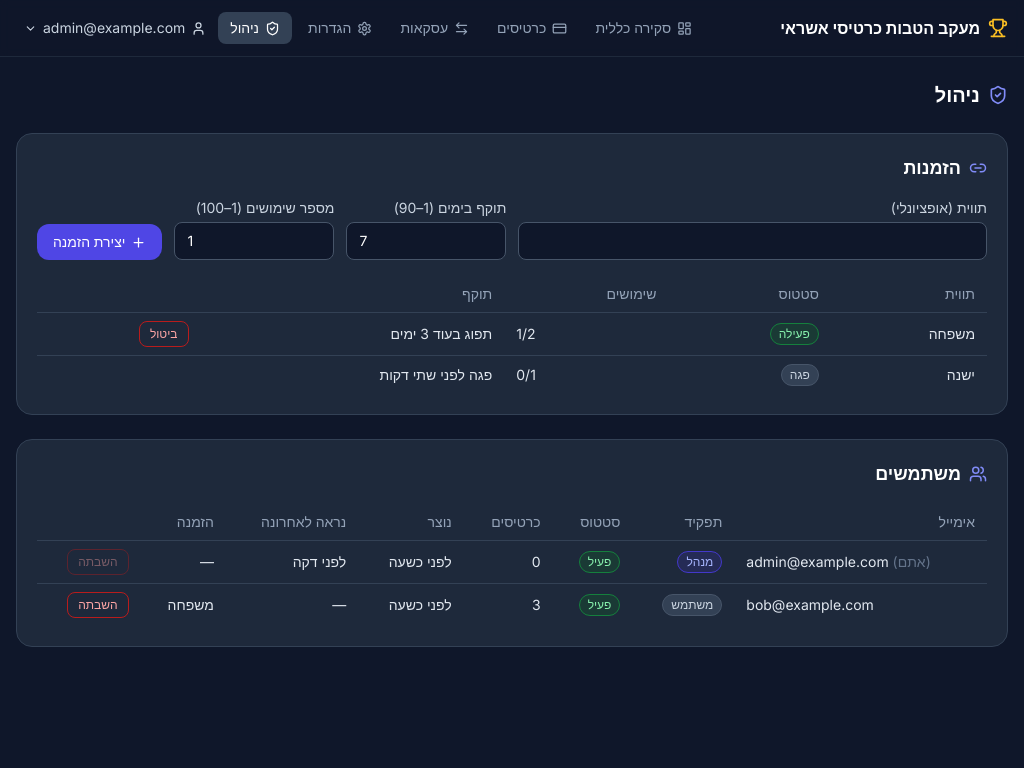
Test: admin page › shows the Hebrew 409 message inline
Click the button with aria-label "השבתת bob@example.com" at (98, 605), box [67,592,129,618]
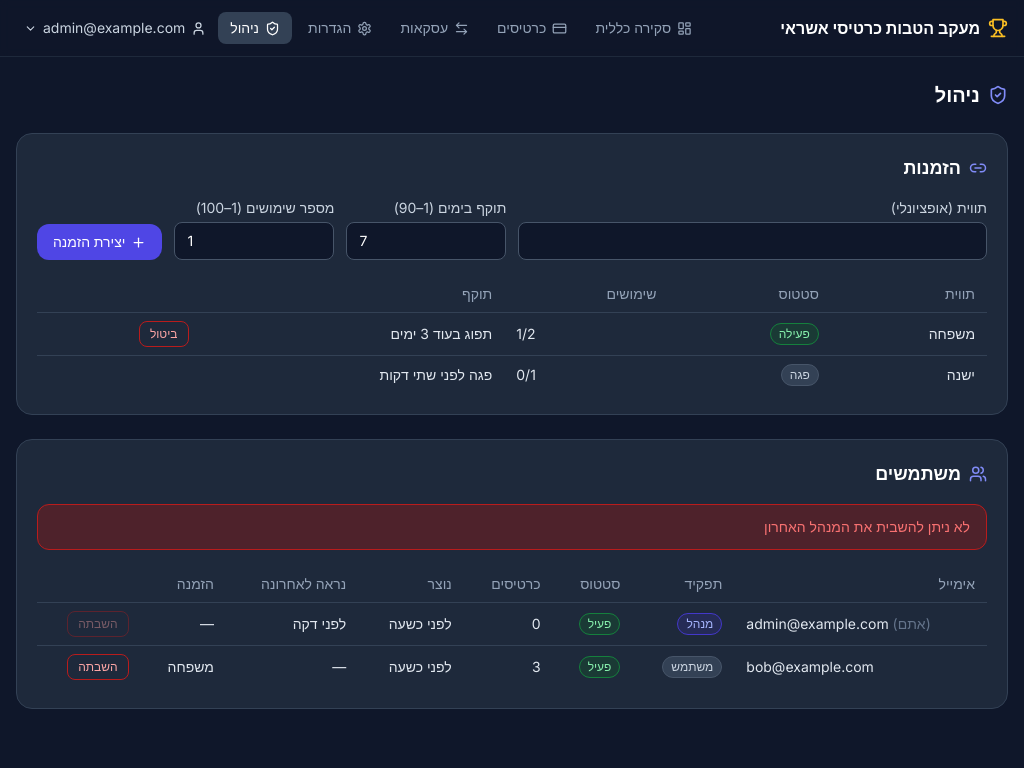
Result: the text "לא ניתן להשבית את המנהל האחרון" is shown at [37,504,987,550]
